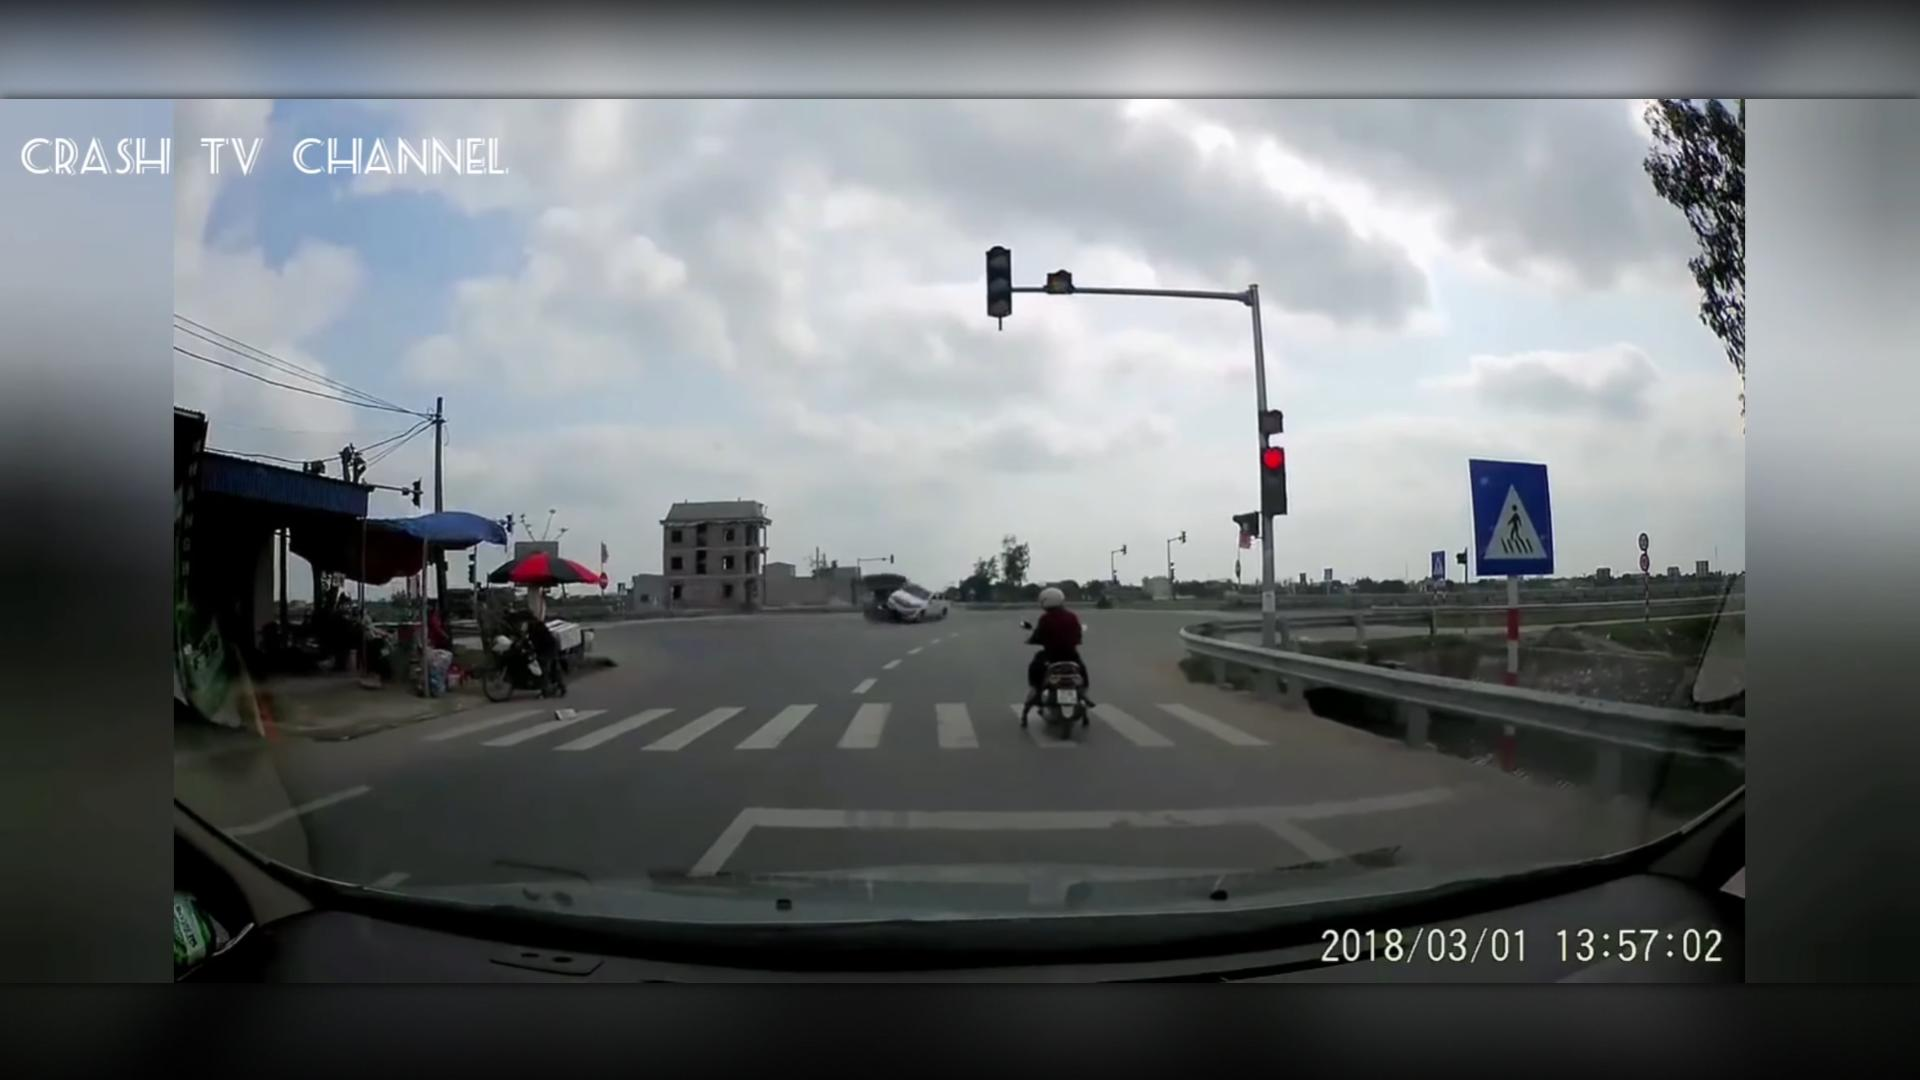accident: (857, 568, 953, 626)
car: (889, 579, 956, 621)
crosswalk: (426, 687, 1269, 761)
motorcycle: (1009, 578, 1102, 748)
